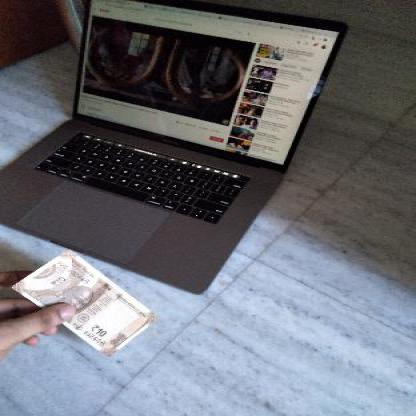New10Front: (13, 250, 155, 355)
